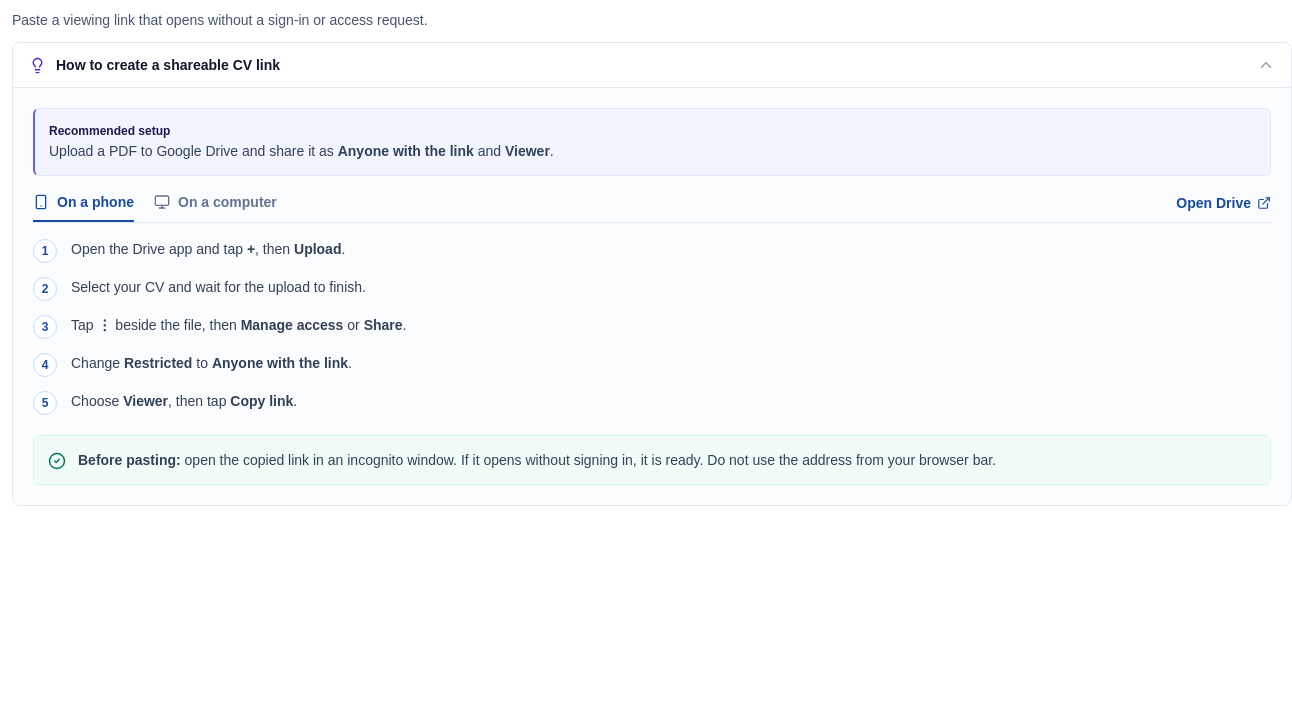
CvLinkGuidance › explains how to provide a publicly accessible CV link
expect the text "without a sign-in or access request" is shown: met, box 12,12 -> 428,28
expect the text "Recommended setup" is shown: met, box 49,124 -> 170,138
What coordinates should you click on to do the following:
click the button "On a computer"
I would click on:
 (215, 207)
Its box is 154,192 -> 277,222.
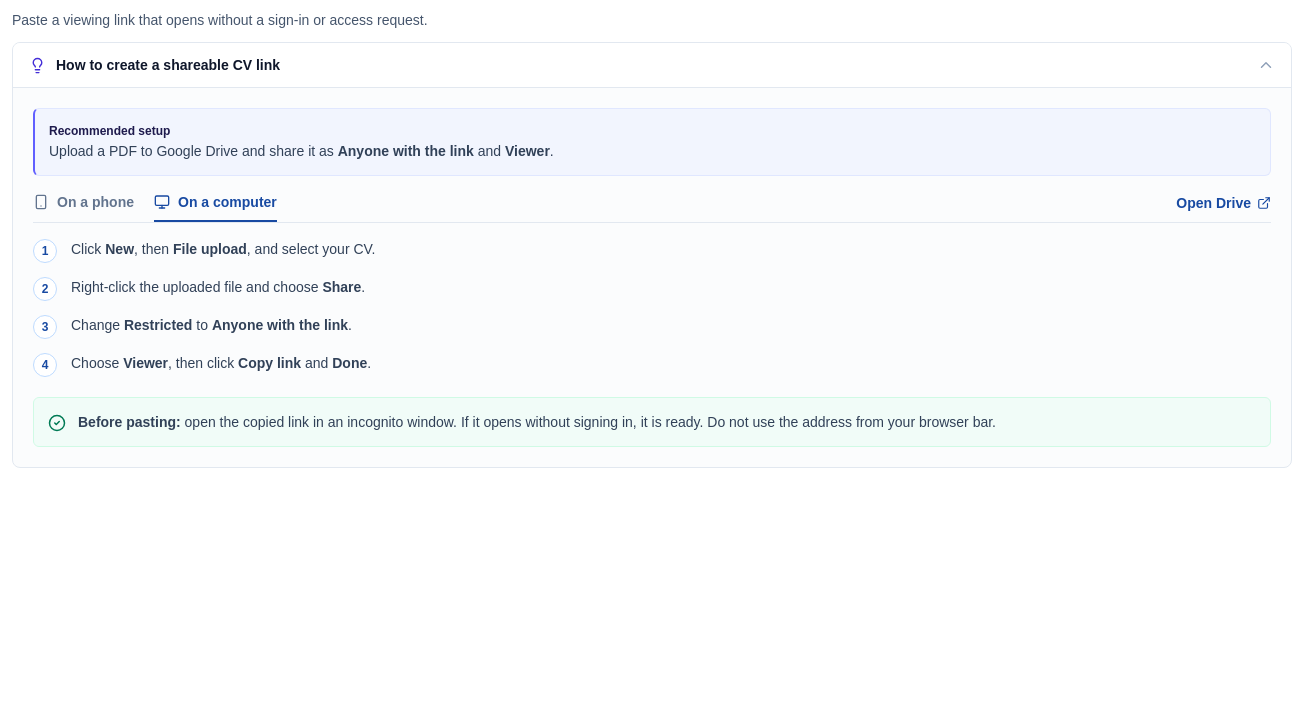
expect the text "Do not use the address from your browser bar" is shown: met, box 181,414 -> 996,430
expect the text "New" is shown: met, box 105,241 -> 134,257
expect the text "Open the Drive app" is gone: met
